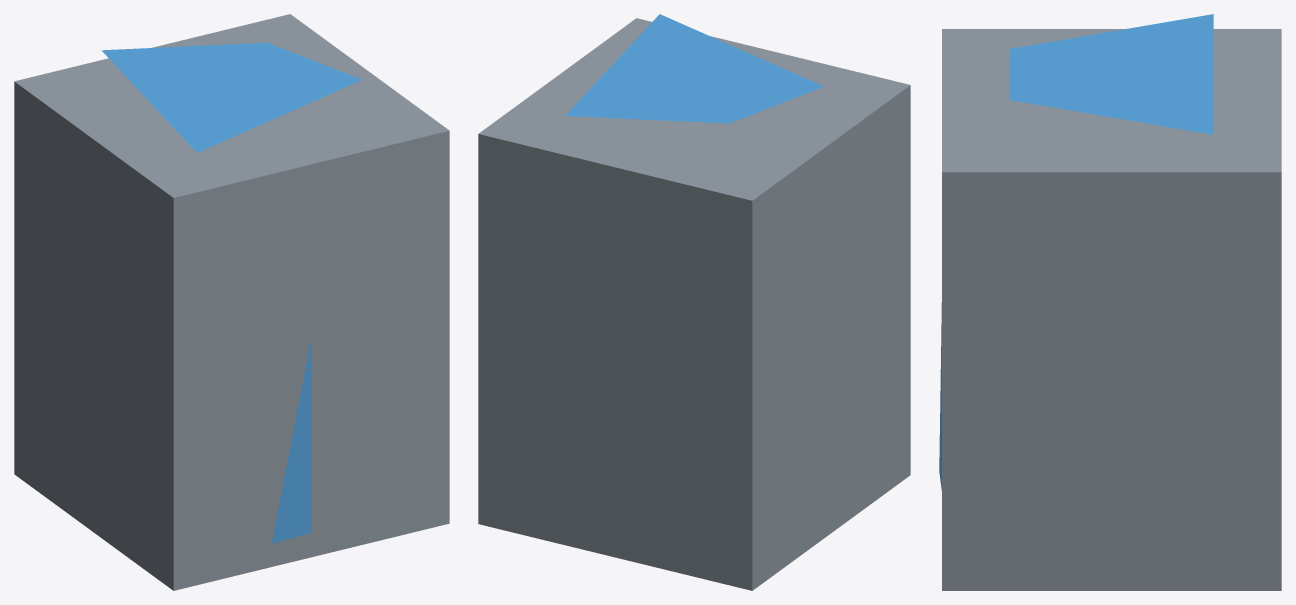
The model's file is AL_Radar_LOD1.glb.
The picture shows the model from 3 angles, left to right: view 1: azimuth 30°, elevation 25°; view 2: azimuth 150°, elevation 25°; view 3: azimuth 270°, elevation 25°; orthographic projection. The views are drawn at different scales.
Parts seen in each view (by area): view 1: EntranceGate; view 2: EntranceGate; view 3: EntranceGate.
Part boxes in pixels (x1,y1,x2,y2): EntranceGate: [14, 14, 449, 590]; EntranceGate: [478, 14, 910, 590]; EntranceGate: [939, 14, 1281, 590].
Size of the model in its own units: 400 by 601 by 403.
